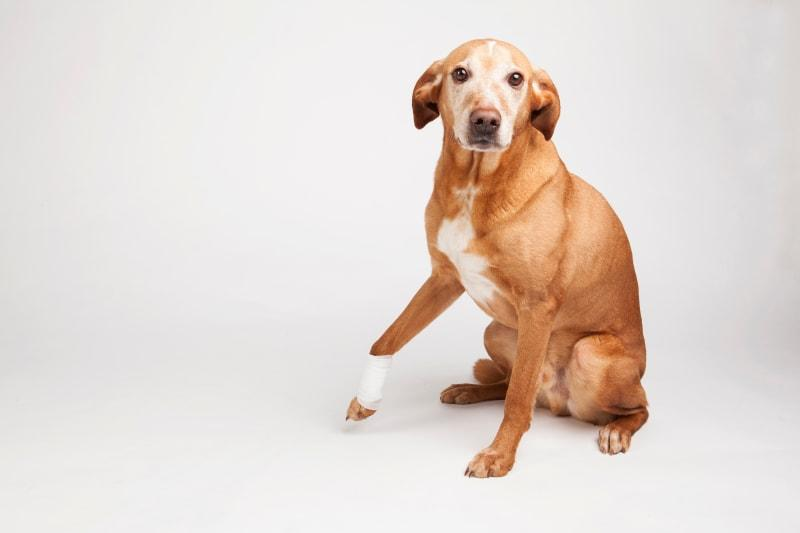fracture: (301, 277, 470, 493)
